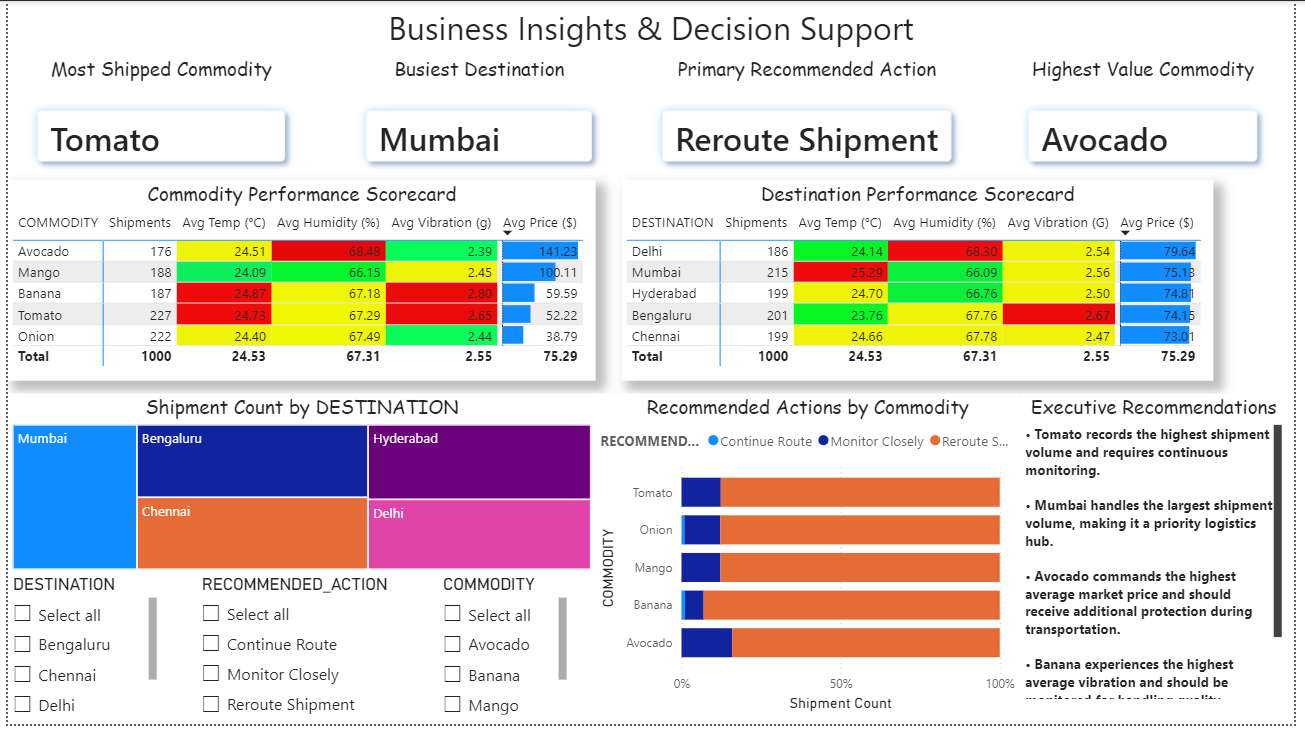

Layout of this report page (visuals, bound fields, positions):
{"tool":"powerbi","page":{"name":"Business Insights & Decision Support","canvas":[1280,720],"ordinal":3},"visuals":[{"type":"textbox","box":[0,0,1280,53.5],"z":0},{"type":"cardVisual","title":"Most Shipped Commodity","fields":{"Data":["ATMOSYNC_DATA.Most Shipped Commodity"]},"box":[0,53.8,305,136.2],"z":1},{"type":"cardVisual","title":"Busiest Destination","fields":{"Data":["ATMOSYNC_DATA.Busiest Destination"]},"box":[327.5,53.8,283.8,136.2],"z":2},{"type":"cardVisual","title":"Primary Recommended Action","fields":{"Data":["ATMOSYNC_DATA.Most Recommended Action"]},"box":[622.5,53.8,346.2,136.2],"z":3},{"type":"cardVisual","title":"Highest Value Commodity","fields":{"Data":["ATMOSYNC_DATA.Highest Value Commodity"]},"box":[986.2,53.8,286.2,136.2],"z":4},{"type":"pivotTable","title":"Commodity Performance Scorecard","fields":{"Rows":["ATMOSYNC_DATA.COMMODITY"],"Values":["ATMOSYNC_DATA.Shipment Count","Avg(ATMOSYNC_DATA.TEMPERATURE_C)","Avg(ATMOSYNC_DATA.HUMIDITY_PCT)","Avg(ATMOSYNC_DATA.VIBRATION_G)","Avg(ATMOSYNC_DATA.MARKET_PRICE_USD_PER_TON)"]},"box":[0,177.5,585,200],"z":7},{"type":"pivotTable","title":"Destination Performance Scorecard","fields":{"Rows":["ATMOSYNC_DATA.DESTINATION"],"Values":["ATMOSYNC_DATA.Shipment Count","Avg(ATMOSYNC_DATA.TEMPERATURE_C)","Avg(ATMOSYNC_DATA.HUMIDITY_PCT)","Avg(ATMOSYNC_DATA.VIBRATION_G)","Avg(ATMOSYNC_DATA.MARKET_PRICE_USD_PER_TON)"]},"box":[611.2,177.5,588.8,200],"z":8},{"type":"treemap","fields":{"Group":["ATMOSYNC_DATA.DESTINATION"],"Values":["ATMOSYNC_DATA.Shipment Count"]},"box":[0,390,585,180],"z":9},{"type":"hundredPercentStackedBarChart","title":"Recommended Actions by Commodity","fields":{"Category":["ATMOSYNC_DATA.COMMODITY"],"Series":["ATMOSYNC_DATA.RECOMMENDED_ACTION"],"Y":["ATMOSYNC_DATA.Shipment Count"]},"box":[585,390,422.5,321.2],"z":10},{"type":"listSlicer","fields":{"Values":["ATMOSYNC_DATA.COMMODITY"]},"box":[427.9,569.7,133.1,150.5],"z":11},{"type":"listSlicer","fields":{"Values":["ATMOSYNC_DATA.DESTINATION"]},"box":[0,569.7,153,150.5],"z":12},{"type":"listSlicer","fields":{"Values":["ATMOSYNC_DATA.RECOMMENDED_ACTION"]},"box":[170.4,569.7,225.2,150.5],"z":13},{"type":"textbox","title":"Executive Recommendations","box":[1007.5,390,265,308.8],"z":14}]}

Visuals, with their boxes in screenshot pixels (x1, y1, x2, y2), scaled from the page's 1280x720 canvas onto the 1305x730 screenshot:
textbox: x1=0 y1=0 x2=1304 y2=54
"Most Shipped Commodity" cardVisual: x1=0 y1=55 x2=311 y2=193
"Busiest Destination" cardVisual: x1=334 y1=55 x2=623 y2=193
"Primary Recommended Action" cardVisual: x1=635 y1=55 x2=988 y2=193
"Highest Value Commodity" cardVisual: x1=1005 y1=55 x2=1297 y2=193
"Commodity Performance Scorecard" pivotTable: x1=0 y1=180 x2=596 y2=383
"Destination Performance Scorecard" pivotTable: x1=623 y1=180 x2=1223 y2=383
treemap - ATMOSYNC_DATA.DESTINATION x ATMOSYNC_DATA.Shipment Count: x1=0 y1=395 x2=596 y2=578
"Recommended Actions by Commodity" hundredPercentStackedBarChart: x1=596 y1=395 x2=1027 y2=721
listSlicer - ATMOSYNC_DATA.COMMODITY: x1=436 y1=578 x2=572 y2=729
listSlicer - ATMOSYNC_DATA.DESTINATION: x1=0 y1=578 x2=156 y2=729
listSlicer - ATMOSYNC_DATA.RECOMMENDED_ACTION: x1=174 y1=578 x2=403 y2=729
"Executive Recommendations" textbox: x1=1027 y1=395 x2=1297 y2=709
